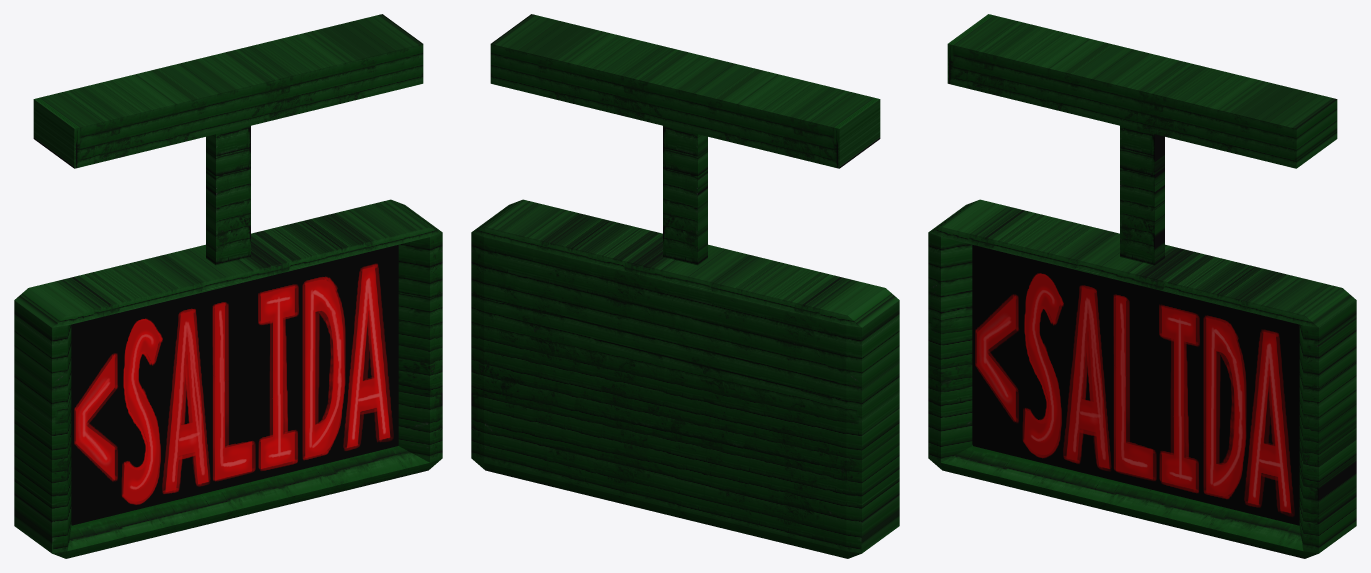
File: LeyyreroSalida.fbx
The picture shows the model from 3 angles, left to right: view 1: azimuth 30°, elevation 25°; view 2: azimuth 150°, elevation 25°; view 3: azimuth 330°, elevation 25°; orthographic projection.
Parts seen in each view (by area): view 1: Letrero salida; view 2: Letrero salida; view 3: Letrero salida.
Part boxes in pixels (left/top/right/bottom): Letrero salida: left=14, top=14, right=442, bottom=558; Letrero salida: left=471, top=14, right=899, bottom=558; Letrero salida: left=928, top=14, right=1356, bottom=558.
Size of the model in its own units: 74.18 by 77.89 by 13.41.
